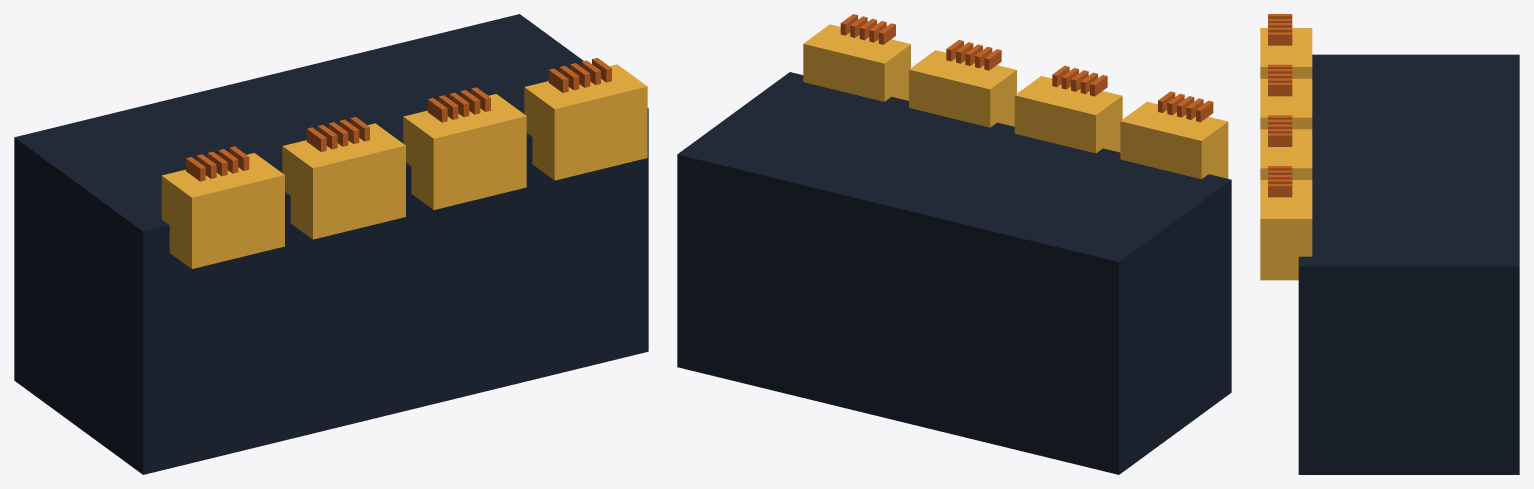
The model's file is 20_L85_ProtectedServiceVehicleAvionics.fbx.
3 views of the same model, side by side, from view 1: azimuth 30°, elevation 25°; view 2: azimuth 150°, elevation 25°; view 3: azimuth 270°, elevation 25° (orthographic). The views are drawn at different scales.
Parts seen in each view (by area): view 1: L85_ProtectedServiceVehicleAvionics; view 2: L85_ProtectedServiceVehicleAvionics; view 3: L85_ProtectedServiceVehicleAvionics.
Part boxes in pixels (x1,y1,x2,y2): L85_ProtectedServiceVehicleAvionics: (14,14,648,474); L85_ProtectedServiceVehicleAvionics: (677,14,1231,474); L85_ProtectedServiceVehicleAvionics: (1260,14,1519,474).
Size of the model in its own units: 163 by 95.5 by 84.5.
